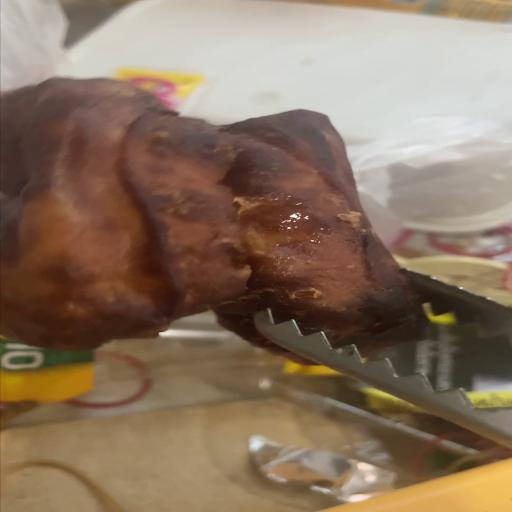street_burnt_defect: (0, 78, 427, 351)
